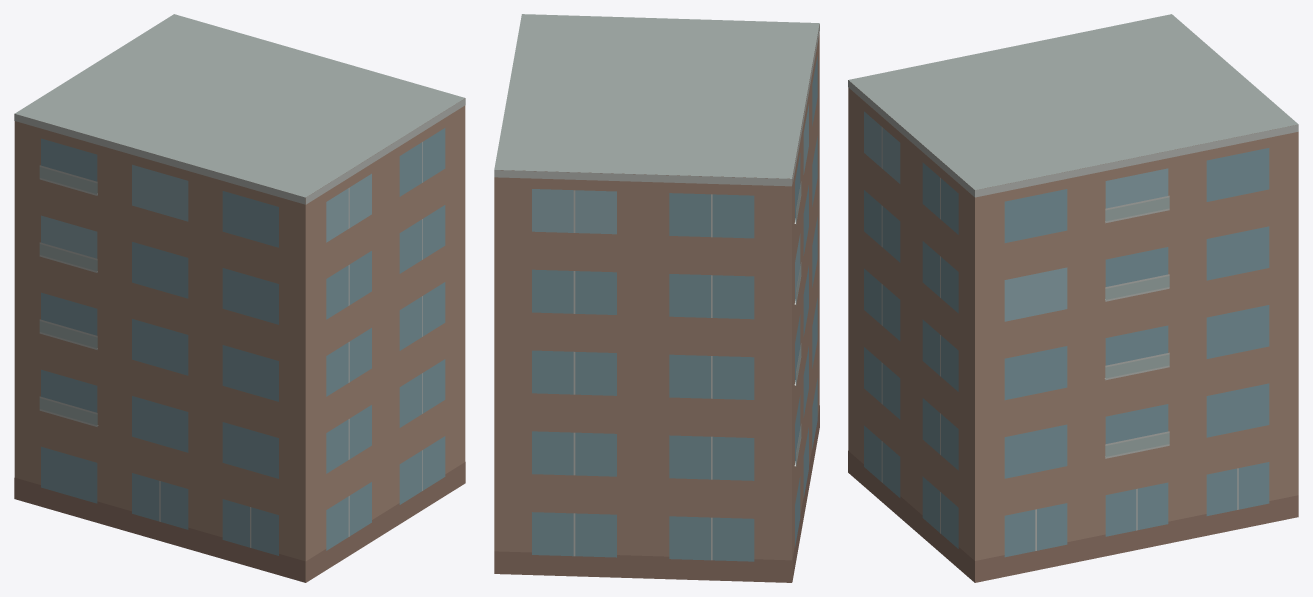
File: survey-upis-32731037.glb
3 views of the same model, side by side, from view 1: azimuth 30°, elevation 25°; view 2: azimuth 150°, elevation 25°; view 3: azimuth 270°, elevation 25° (orthographic). The views are drawn at different scales.
Parts seen in each view (by area): view 1: survey-upis-32731037.tmp; view 2: survey-upis-32731037.tmp; view 3: survey-upis-32731037.tmp.
Boxes of the visible parts, <box> form: survey-upis-32731037.tmp: <box>14,14,465,582</box>; survey-upis-32731037.tmp: <box>494,14,819,582</box>; survey-upis-32731037.tmp: <box>848,14,1298,582</box>.
Bounding box in the file's own units: 12.62 × 13.1 × 13.63.
